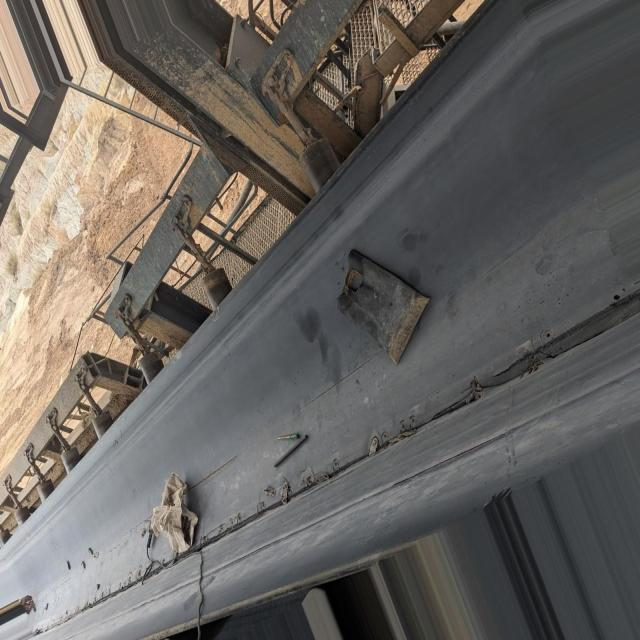Other Objects: (332, 245, 436, 364), (141, 473, 205, 565), (273, 419, 317, 470), (192, 556, 221, 632), (201, 572, 213, 616)
Roller: (302, 135, 340, 189), (206, 261, 241, 308), (138, 341, 166, 392), (90, 407, 116, 437), (62, 445, 82, 469), (9, 502, 29, 524), (39, 472, 53, 501), (2, 524, 9, 534)
Tear: (36, 291, 633, 636)
